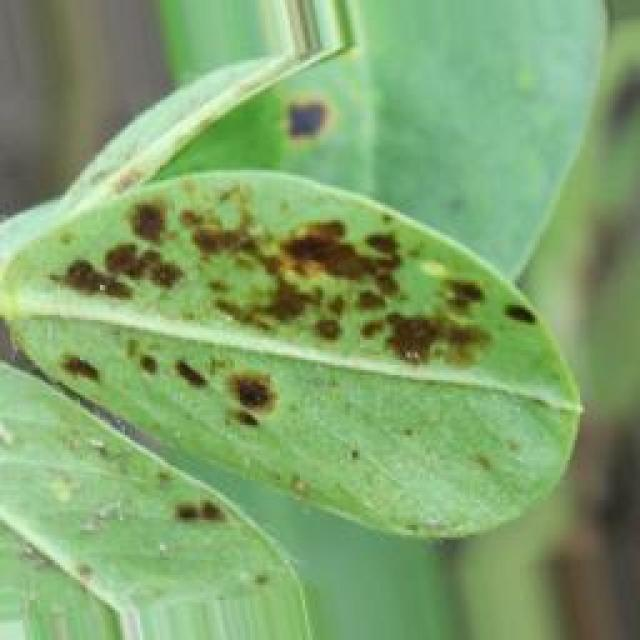Whitefly: (32, 74, 549, 602)
